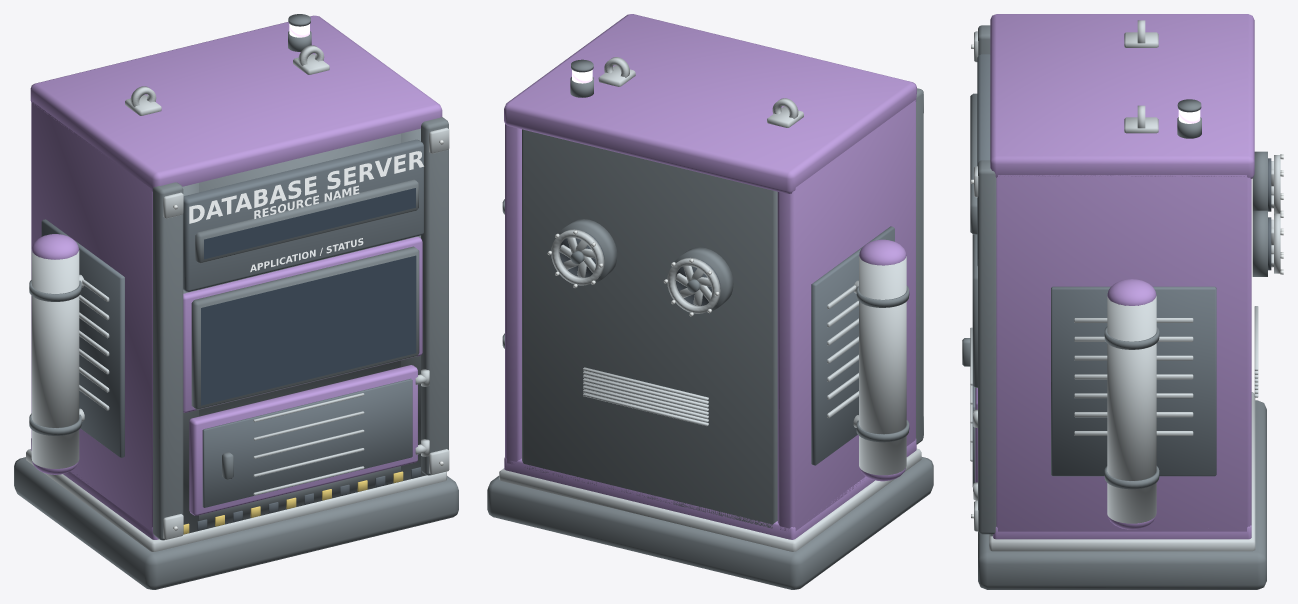
Rendered from database_server_enhanced.glb.
3 renders of one model, left to right at view 1: azimuth 30°, elevation 25°; view 2: azimuth 150°, elevation 25°; view 3: azimuth 270°, elevation 25°, orthographic. The views are drawn at different scales.
Parts seen in each view (by area): view 1: Roof_violet, SideWall_violet, LiveViewSurface_glass, CornerPost_frame, Skid_frame, DoorMoving_Inset_graphite, FrontHeader_graphite, Reservoir_steel, SideServicePanel_graphite, DoorMoving_Panel_violet, SkidDeck_steel, LiveViewSurfaceFrame_frame (+18 smaller); view 2: BackWall_frame, Roof_violet, SideWall_violet, Skid_frame, Reservoir_steel, SideServicePanel_graphite, SkidDeck_steel, KickPlate_violet, RearFan_steel, RearVent_steel, CornerPost_frame, RearFan_frame (+6 smaller); view 3: SideWall_violet, Roof_violet, SideServicePanel_graphite, Skid_frame, Reservoir_steel, CornerPost_frame, SkidDeck_steel, SideLouver_steel, KickPlate_violet, RearFan_frame, FrontHeader_graphite, ReservoirCap_violet (+9 smaller).
Part boxes in pixels (left/top/right/bottom): Roof_violet: left=30, top=15, right=442, bottom=191; SideWall_violet: left=31, top=102, right=152, bottom=531; LiveViewSurface_glass: left=201, top=255, right=416, bottom=405; CornerPost_frame: left=153, top=117, right=448, bottom=540; Skid_frame: left=14, top=457, right=458, bottom=589; DoorMoving_Inset_graphite: left=202, top=378, right=412, bottom=507; FrontHeader_graphite: left=183, top=139, right=423, bottom=291; Reservoir_steel: left=31, top=250, right=79, bottom=468; SideServicePanel_graphite: left=41, top=219, right=124, bottom=457; DoorMoving_Panel_violet: left=189, top=365, right=417, bottom=515; SkidDeck_steel: left=26, top=449, right=446, bottom=551; LiveViewSurfaceFrame_frame: left=191, top=246, right=419, bottom=409; BackWall_frame: left=522, top=129, right=777, bottom=528; Roof_violet: left=504, top=14, right=916, bottom=193; SideWall_violet: left=505, top=100, right=915, bottom=530; Skid_frame: left=487, top=457, right=933, bottom=589; Reservoir_steel: left=859, top=256, right=906, bottom=475; SideServicePanel_graphite: left=811, top=226, right=894, bottom=465; SkidDeck_steel: left=499, top=448, right=921, bottom=551; KickPlate_violet: left=504, top=439, right=916, bottom=539; RearFan_steel: left=551, top=229, right=720, bottom=313; RearVent_steel: left=583, top=367, right=708, bottom=426; CornerPost_frame: left=916, top=88, right=923, bottom=444; RearFan_frame: left=558, top=219, right=733, bottom=312; SideWall_violet: left=996, top=175, right=1251, bottom=531; Roof_violet: left=990, top=14, right=1254, bottom=178; SideServicePanel_graphite: left=1051, top=286, right=1216, bottom=476; Skid_frame: left=978, top=400, right=1266, bottom=589; Reservoir_steel: left=1107, top=296, right=1156, bottom=523; CornerPost_frame: left=978, top=25, right=996, bottom=534; SkidDeck_steel: left=989, top=392, right=1255, bottom=551; SideLouver_steel: left=1074, top=318, right=1193, bottom=435; KickPlate_violet: left=993, top=525, right=1251, bottom=539; RearFan_frame: left=1252, top=151, right=1267, bottom=276; FrontHeader_graphite: left=977, top=54, right=990, bottom=265; ReservoirCap_violet: left=1107, top=279, right=1156, bottom=529.
Size of the model in its own units: 2.52 by 2.66 by 1.69.
